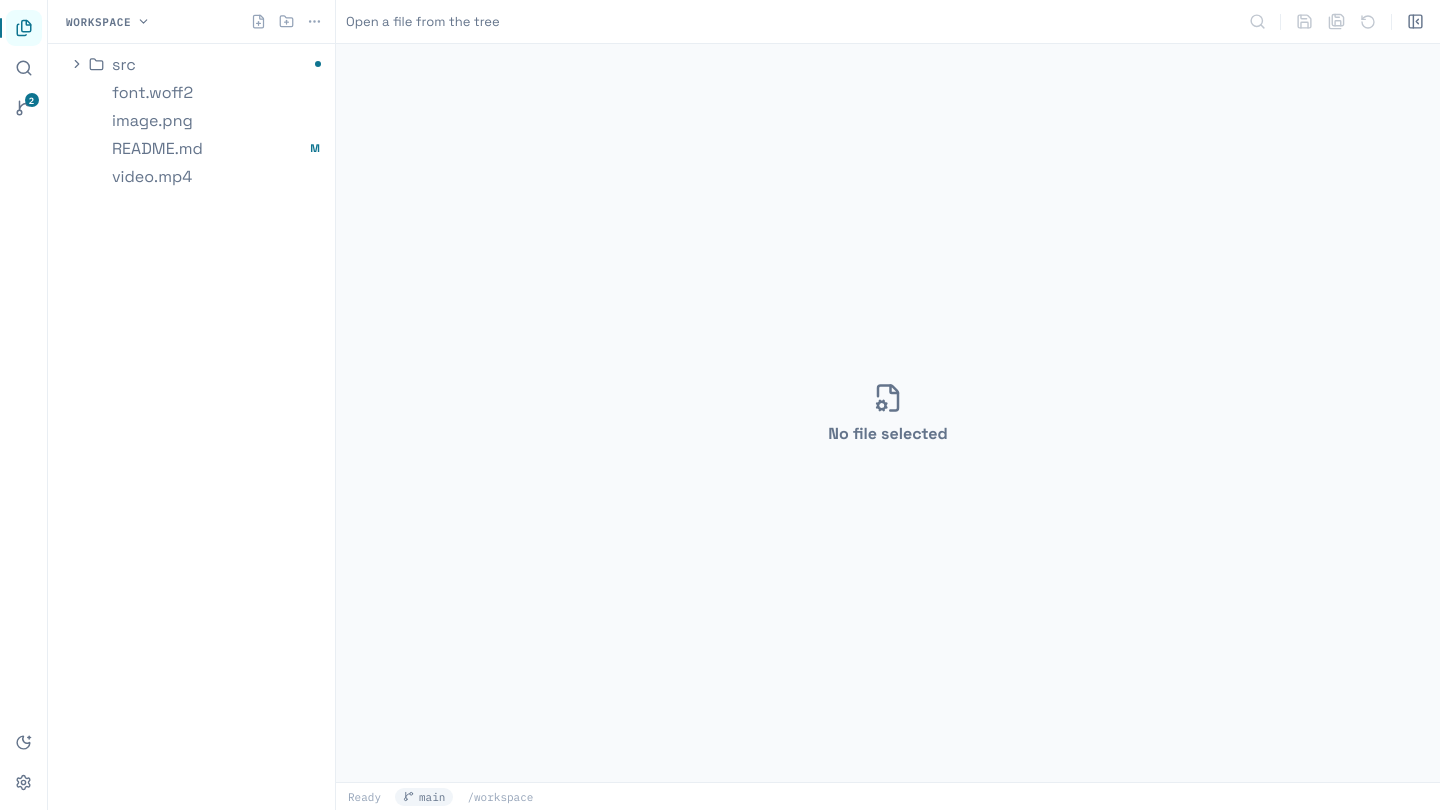
Test: App shell interactions › selects non-text image.png files in the tree without opening an editor tab
This screenshot has width=1440, height=810.
What coordinates should you click on to do the following:
click the list item "image.png"
I would click on:
 (196, 120)
Its box is [64,106,327,134].
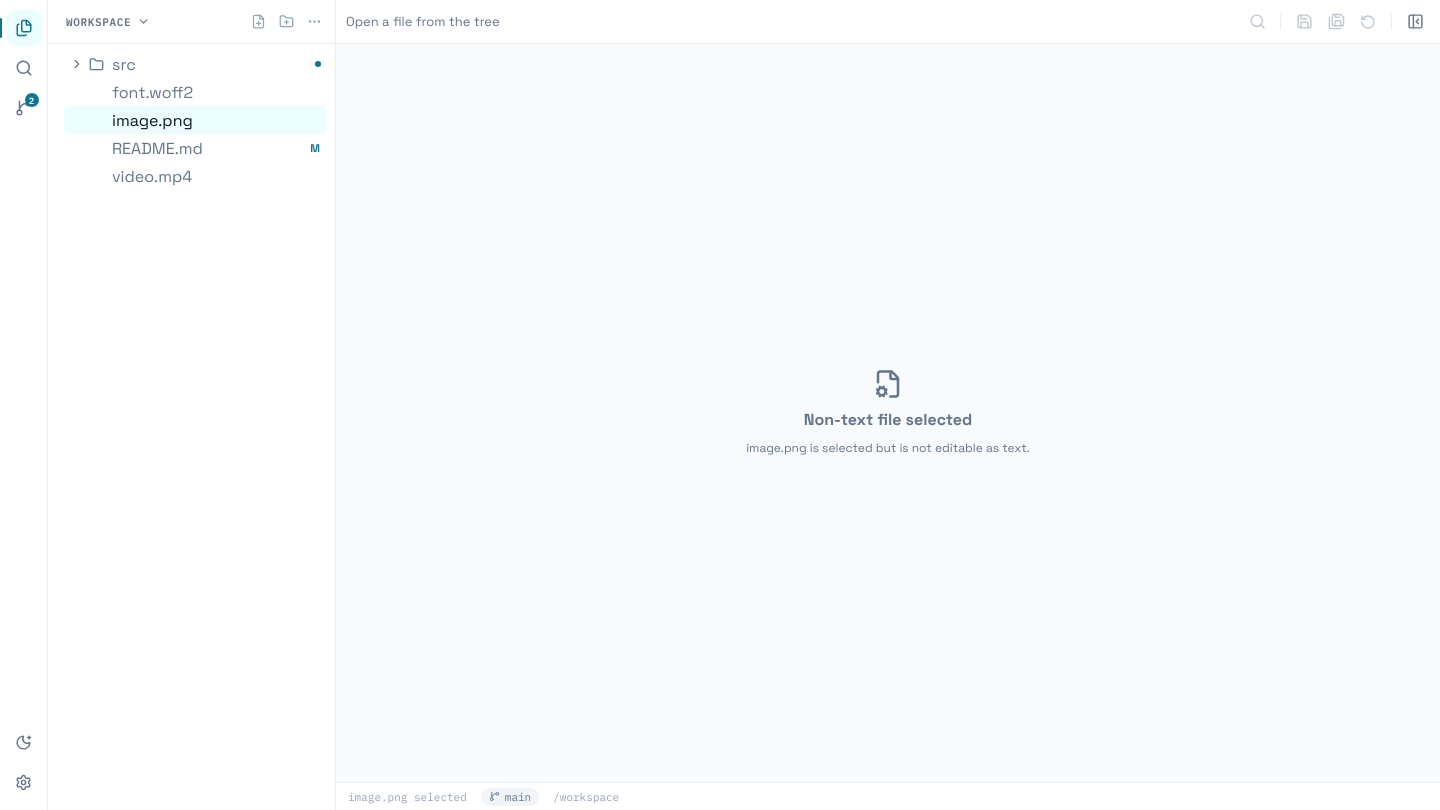
Check: the text "Open a file from the tree" is shown, box [346,13,500,30]
Check: the text "Non-text file selected" is shown, box [804,409,972,430]
Check: the text "image.png selected" is shown, box [348,790,467,804]
